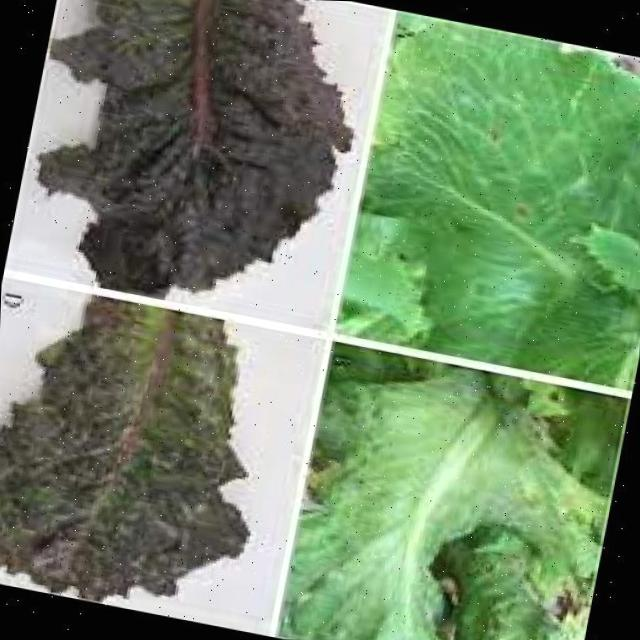Powdery_Mildew: (420, 52, 640, 364), (303, 379, 536, 640), (28, 298, 225, 590), (91, 0, 300, 269)
